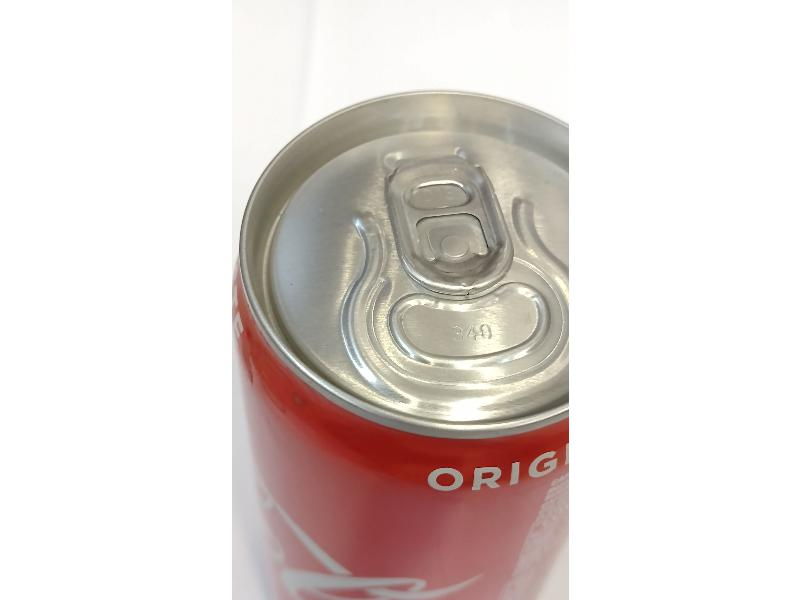can: (234, 86, 565, 600)
